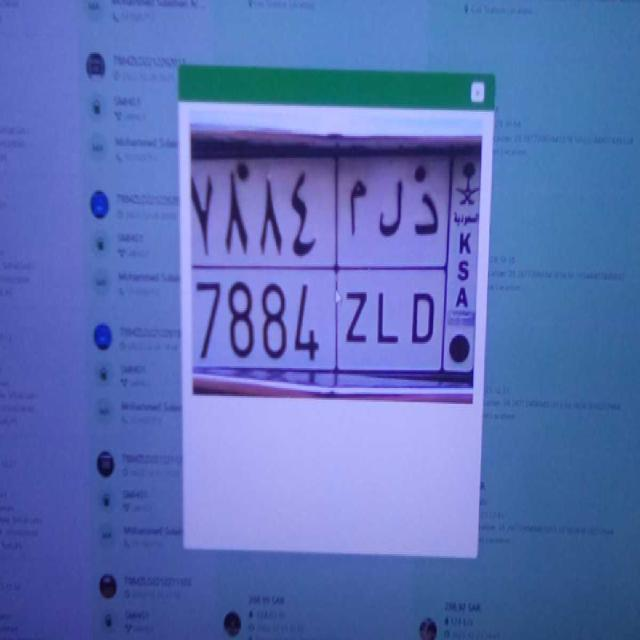license_plate: (188, 264, 446, 386)
